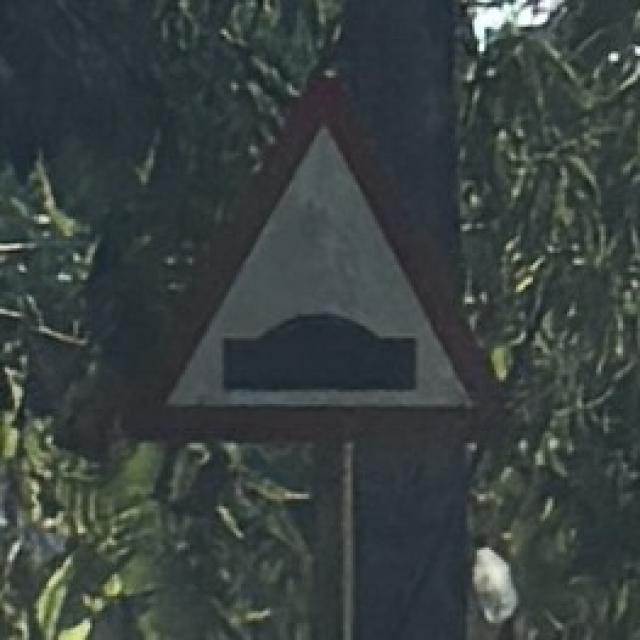HUMP_OR_ROUGH_ROAD: (115, 54, 526, 441)
